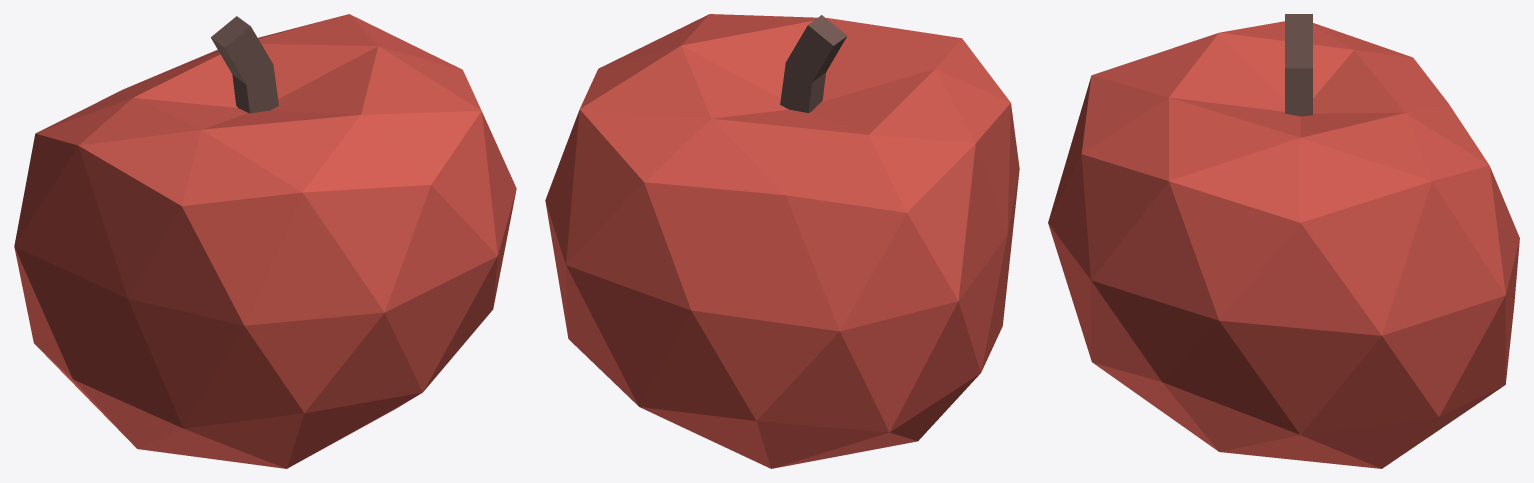
Rendered from Apple.fbx.
3 renders of one model, left to right at view 1: azimuth 30°, elevation 25°; view 2: azimuth 150°, elevation 25°; view 3: azimuth 270°, elevation 25°, orthographic.
Parts seen in each view (by area): view 1: Icosphere; view 2: Icosphere; view 3: Icosphere.
Part boxes in pixels (<box>): Icosphere: <box>14,14,516,468</box>; Icosphere: <box>545,14,1019,468</box>; Icosphere: <box>1048,14,1519,468</box>.
Bounding box in the file's own units: 183 × 176 × 179.
